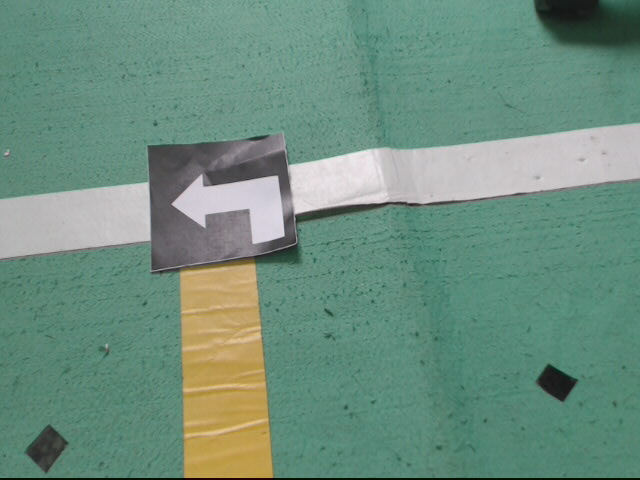left: (146, 134, 302, 271)
